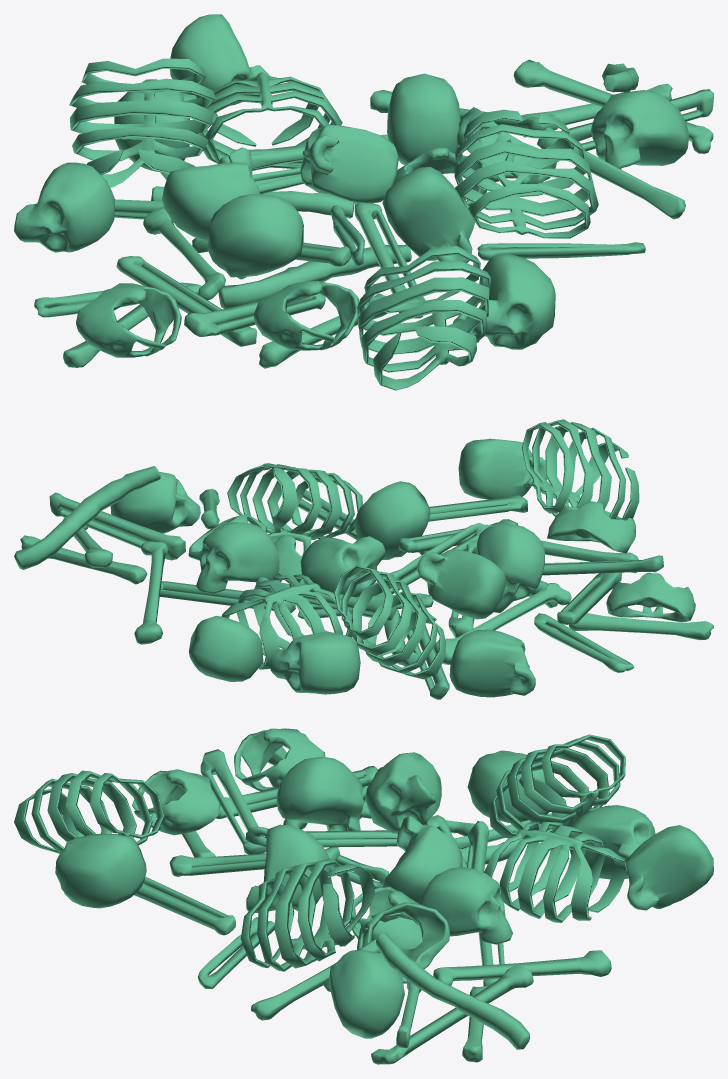
File: Bones_Pile_02_Lod0.fbx
The picture shows the model from 3 angles, top to bottom: view 1: azimuth 30°, elevation 25°; view 2: azimuth 150°, elevation 25°; view 3: azimuth 270°, elevation 25°; orthographic projection. The views are drawn at different scales.
Visible parts, largest first — view 1: Bones_Pile_02_Lod0; view 2: Bones_Pile_02_Lod0; view 3: Bones_Pile_02_Lod0.
Part boxes in pixels (<box>): Bones_Pile_02_Lod0: <box>14,14,713,390</box>; Bones_Pile_02_Lod0: <box>14,419,713,699</box>; Bones_Pile_02_Lod0: <box>14,728,713,1064</box>.
Bounding box in the file's own units: 153 × 28.31 × 140.
